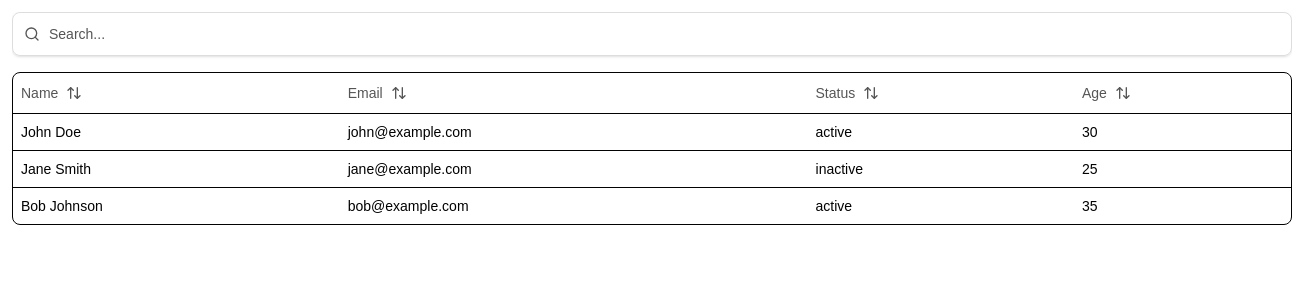
it: DataTable › Search Functionality › shows empty state when search has no results
In the field with placeholder "Search...": (652, 34) [12, 12, 1292, 56], type "nonexistent"
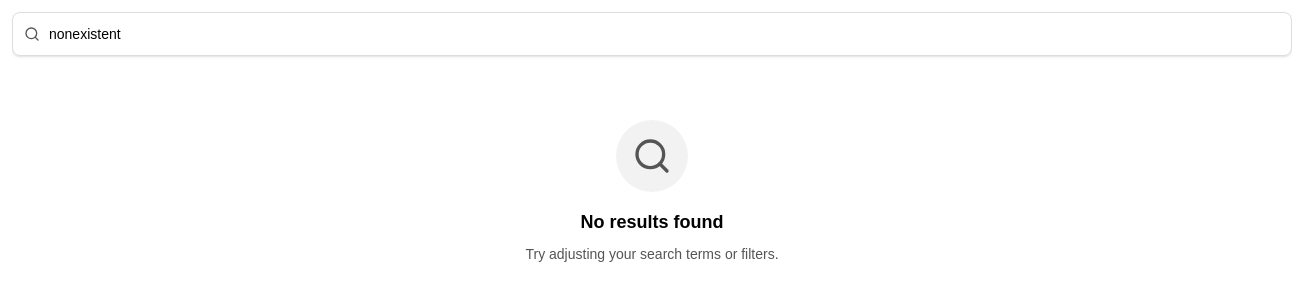
Expected: the heading "No results found" is shown, [580, 208, 724, 236]
Expected: the text "Try adjusting your search terms or filters." is shown, [525, 244, 778, 264]
